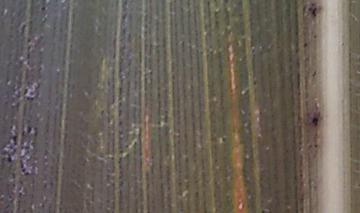tarspot: (310, 115, 320, 126), (310, 6, 318, 19), (40, 5, 47, 12), (302, 41, 309, 48), (314, 142, 319, 149)
